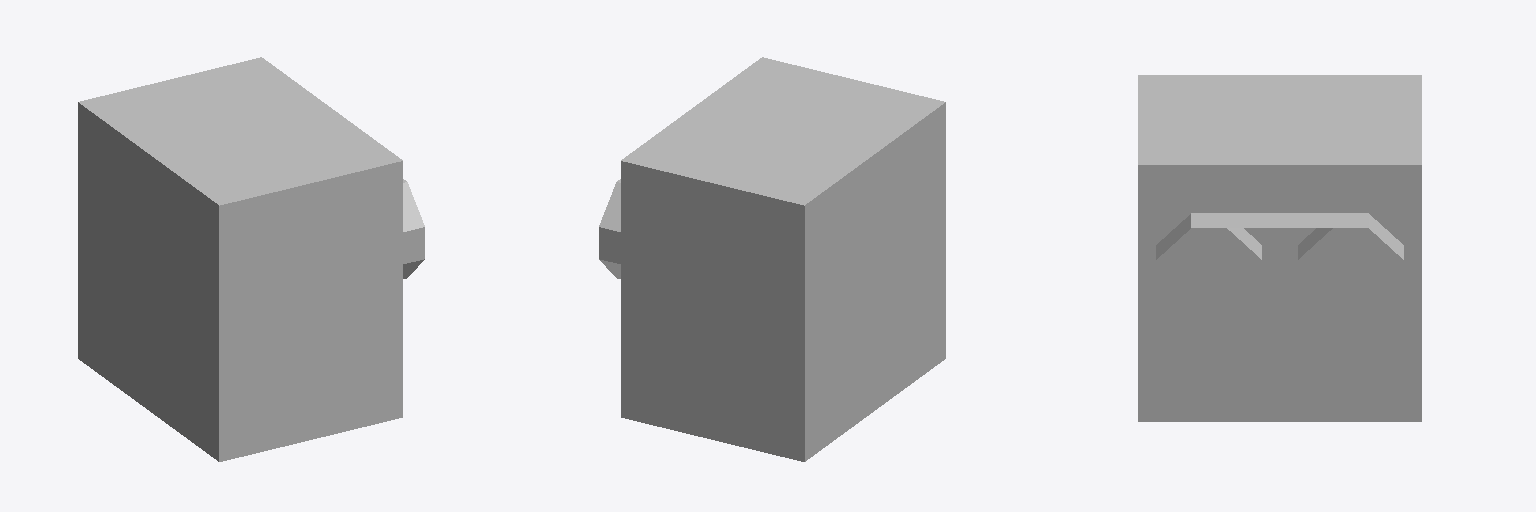
The model's file is tape_recorder.obj.
3 renders of one model, left to right at view 1: azimuth 30°, elevation 25°; view 2: azimuth 150°, elevation 25°; view 3: azimuth 270°, elevation 25°, orthographic.
Visible parts, largest first — view 1: Cube_Cube.001; view 2: Cube_Cube.001; view 3: Cube_Cube.001.
Boxes of the visible parts, x1=… form: Cube_Cube.001: x1=78, y1=57, x2=424, y2=461; Cube_Cube.001: x1=599, y1=57, x2=945, y2=461; Cube_Cube.001: x1=1138, y1=75, x2=1421, y2=421.
Bounding box in the file's own units: 0.875 × 1 × 1.